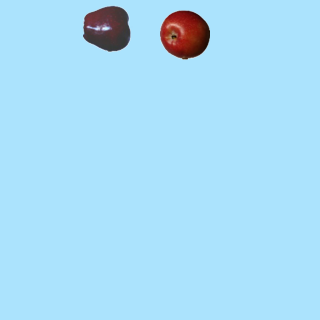Apple Braeburn: (159, 9, 209, 59)
Apple Red Delicious: (82, 3, 132, 53)
